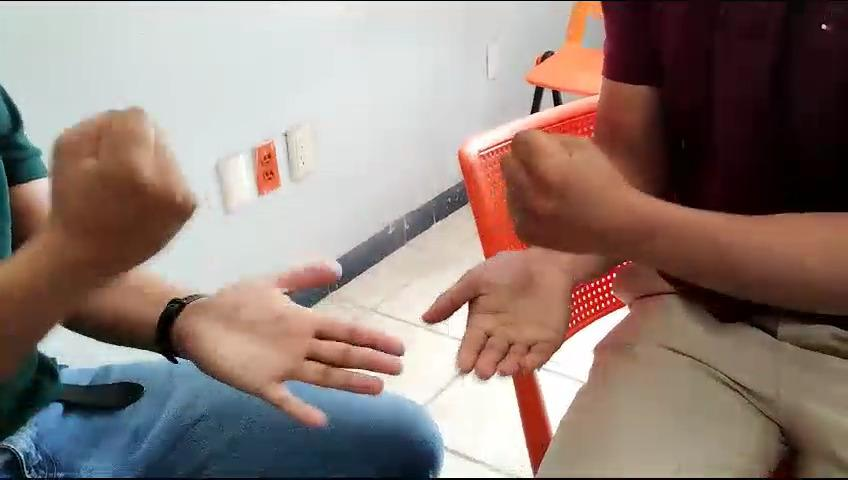Paper: (168, 233, 392, 458), (416, 220, 589, 426)
Stone: (22, 88, 226, 294), (479, 95, 669, 278)
